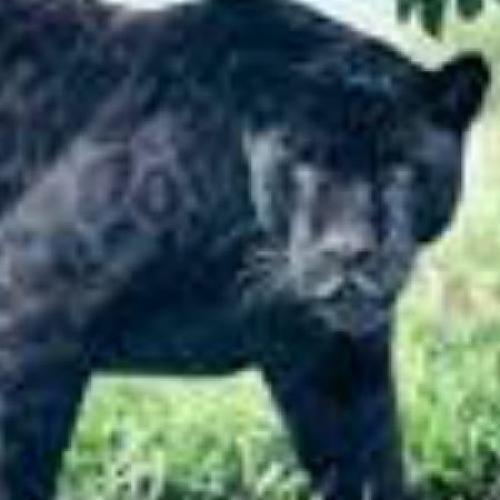panther-endangered: (10, 5, 481, 401)
